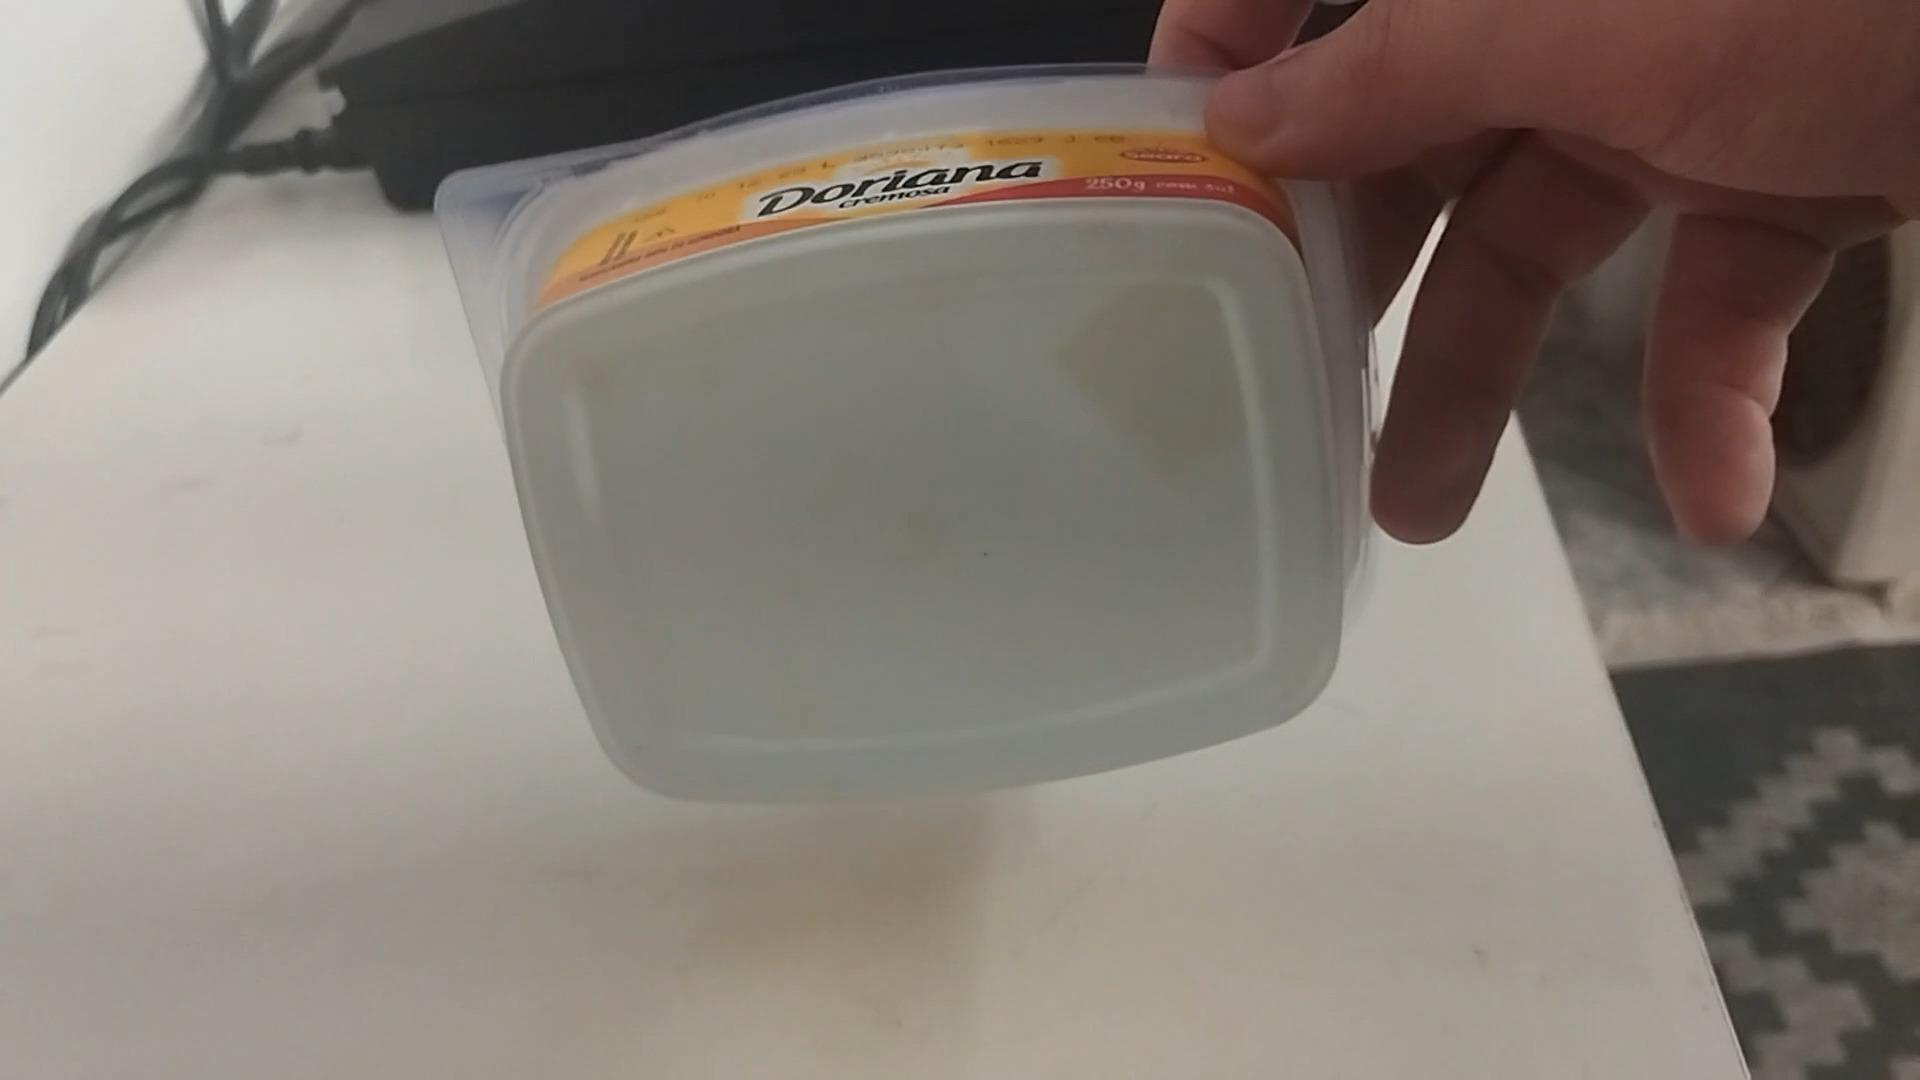butter: (438, 71, 1374, 810)
